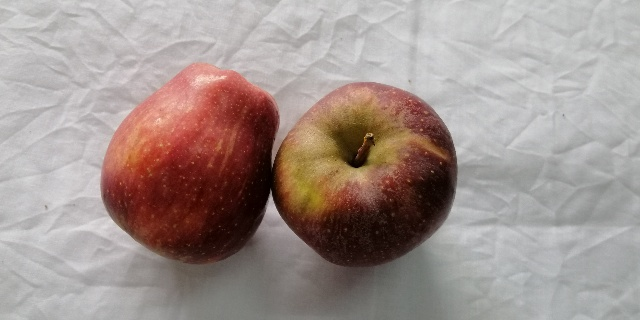apple_kashmir: (101, 61, 280, 262), (272, 82, 461, 268)
